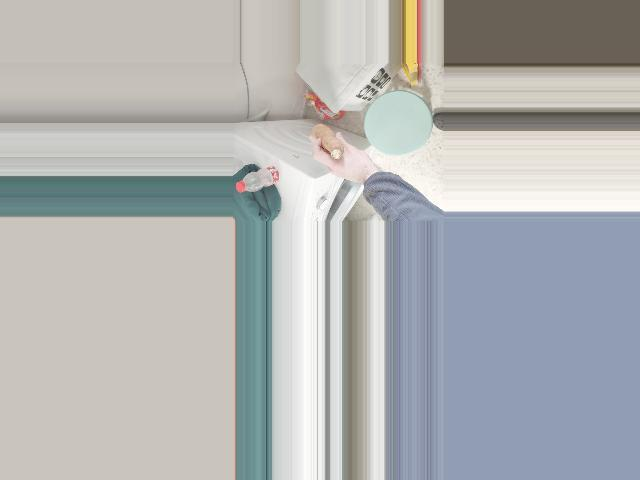sweet_potato: (308, 125, 348, 163)
